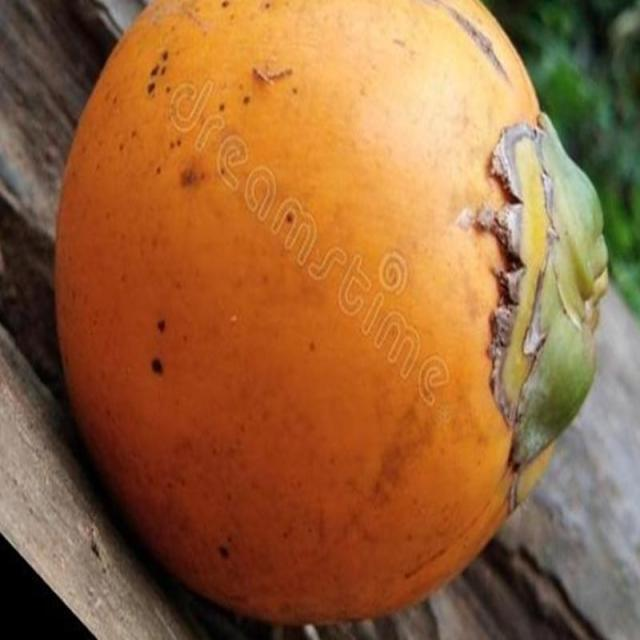good: (54, 0, 613, 627)
